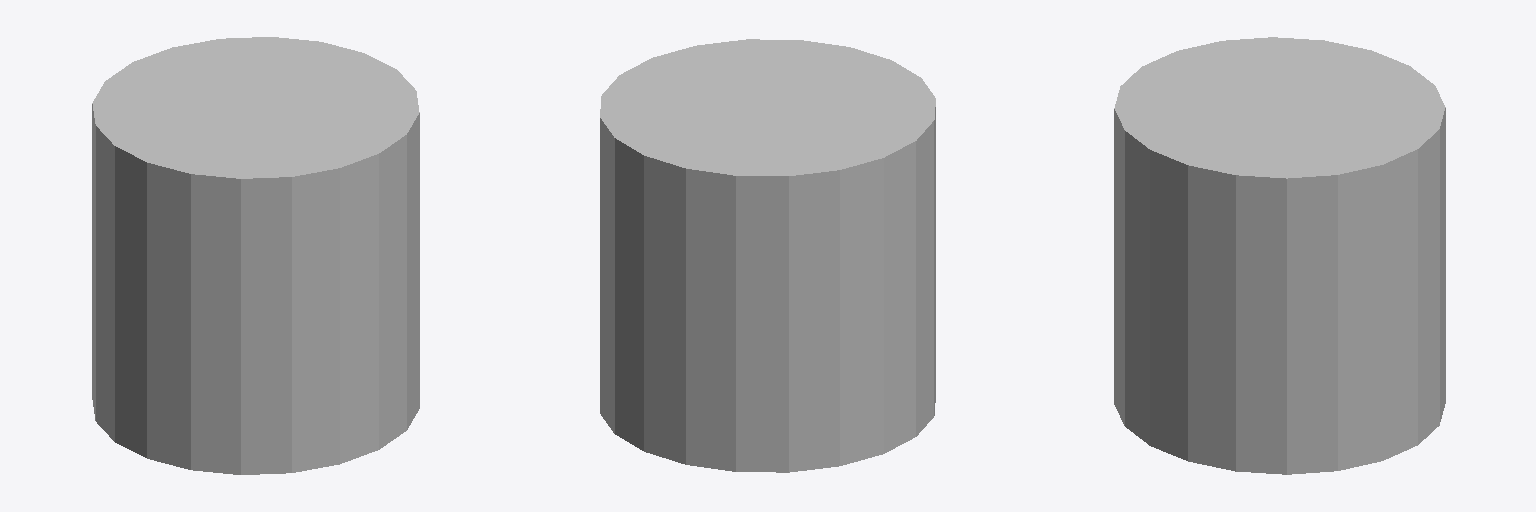
File: bbCan.obj
3 views of the same model, side by side, from view 1: azimuth 30°, elevation 25°; view 2: azimuth 150°, elevation 25°; view 3: azimuth 270°, elevation 25° (orthographic).
Parts seen in each view (by area): view 1: bakedBean:pCylinder1; view 2: bakedBean:pCylinder1; view 3: bakedBean:pCylinder1.
Boxes of the visible parts, box(x1,y1,x2,y2) form: bakedBean:pCylinder1: box(92, 37, 419, 474); bakedBean:pCylinder1: box(600, 39, 935, 472); bakedBean:pCylinder1: box(1114, 37, 1445, 474).
Size of the model in its own units: 0.6179 by 0.6035 by 0.6114.